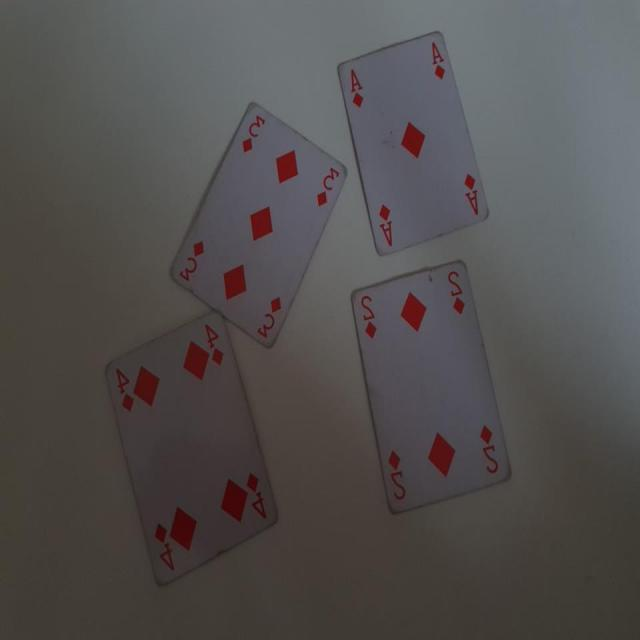2 of diamonds: (344, 260, 524, 520)
3 of diamonds: (168, 102, 349, 348)
4 of diamonds: (102, 312, 280, 596)
ace of diamonds: (334, 15, 497, 264)
